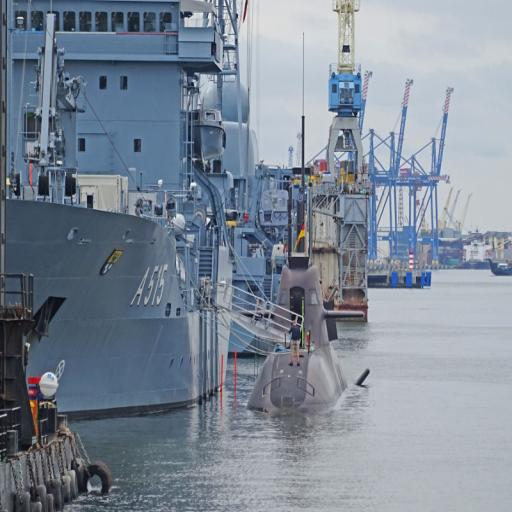submarine: (250, 178, 366, 415)
